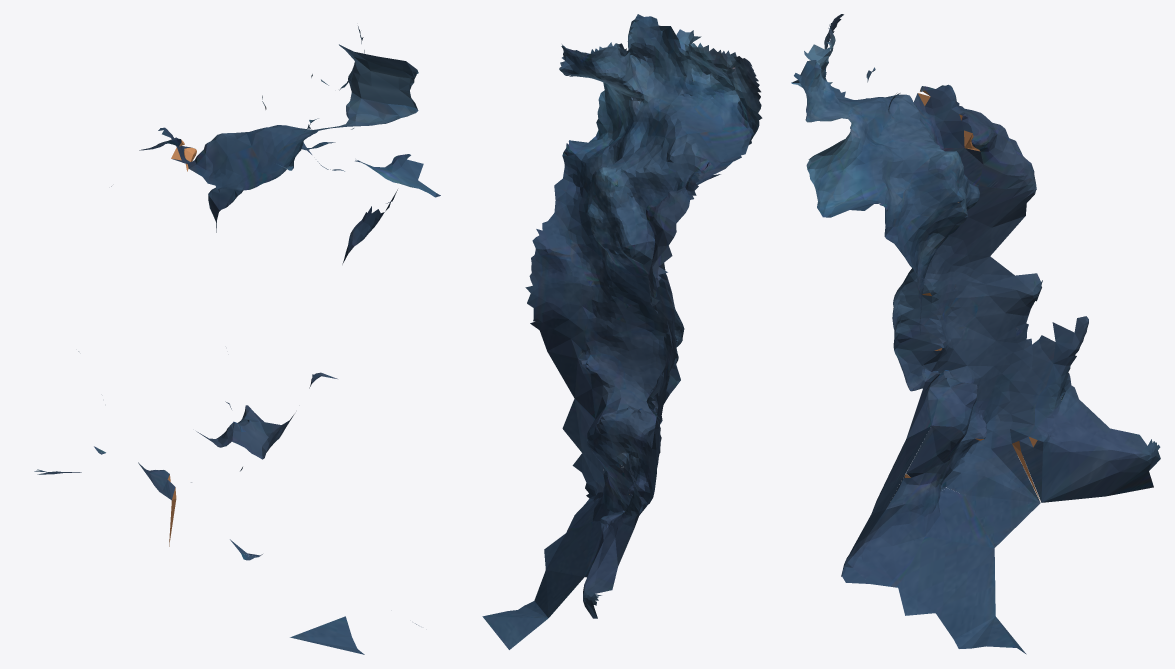
File: tile_0758.gltf
3 renders of one model, left to right at view 1: azimuth 30°, elevation 25°; view 2: azimuth 150°, elevation 25°; view 3: azimuth 270°, elevation 25°, orthographic. The views are drawn at different scales.
Parts seen in each view (by area): view 1: defaultobject; view 2: defaultobject; view 3: defaultobject.
Part boxes in pixels (box(x1,y1,x2,y2)): defaultobject: box(34, 26, 440, 654); defaultobject: box(482, 14, 762, 649); defaultobject: box(791, 14, 1160, 654).
Bounding box in the file's own units: 0.3578 × 0.9505 × 0.5605.
2 materials, 2 textured.
